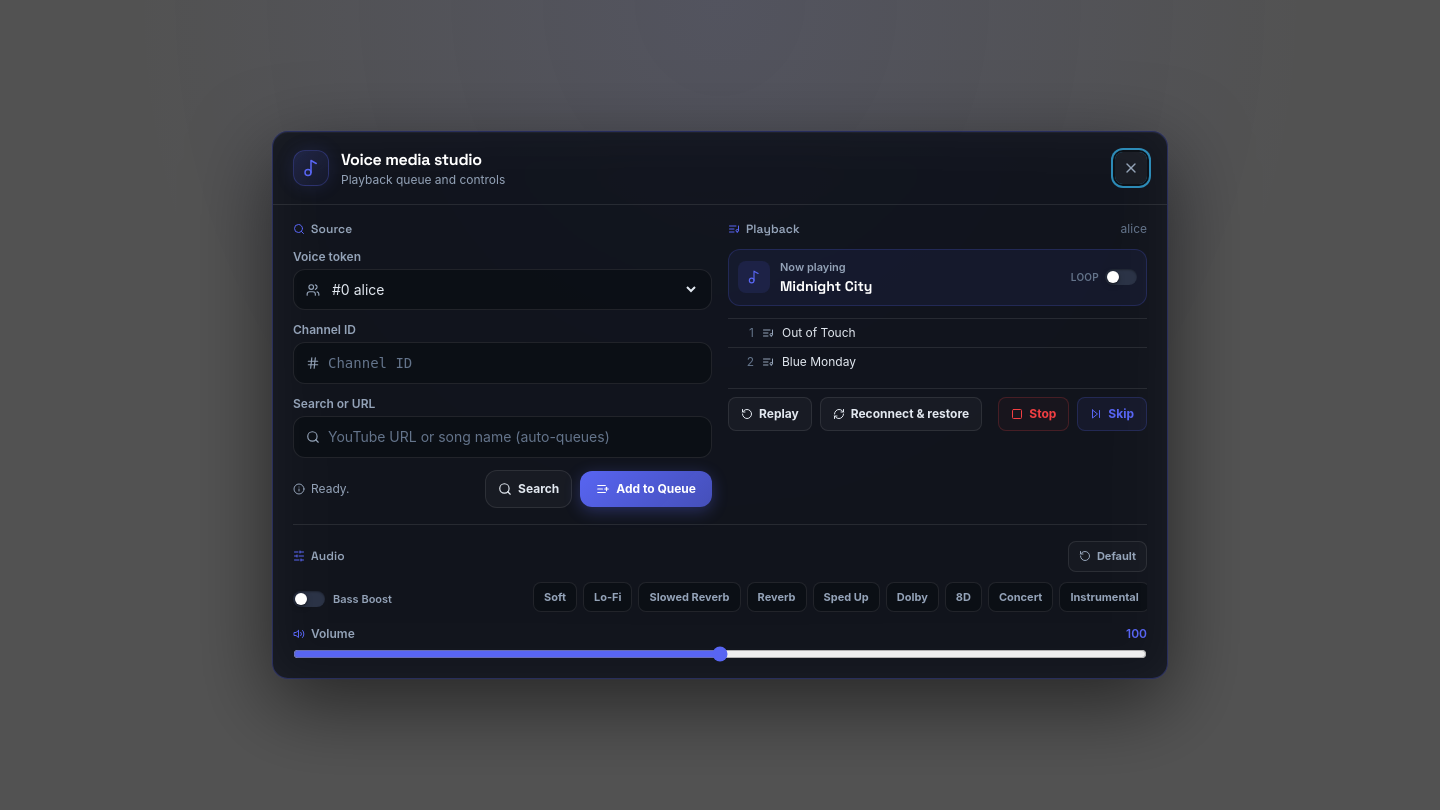
Test case: VoiceMediaModal › explains that the bot is offline instead of faking a queue
This screenshot has width=1440, height=810.
Expected: the text "Midnight City" is shown, left=780, top=276, right=872, bottom=294
Step 1. Type "222222222222222222" into the field labelled "Channel ID" → (514, 363), box left=328, top=343, right=699, bottom=383
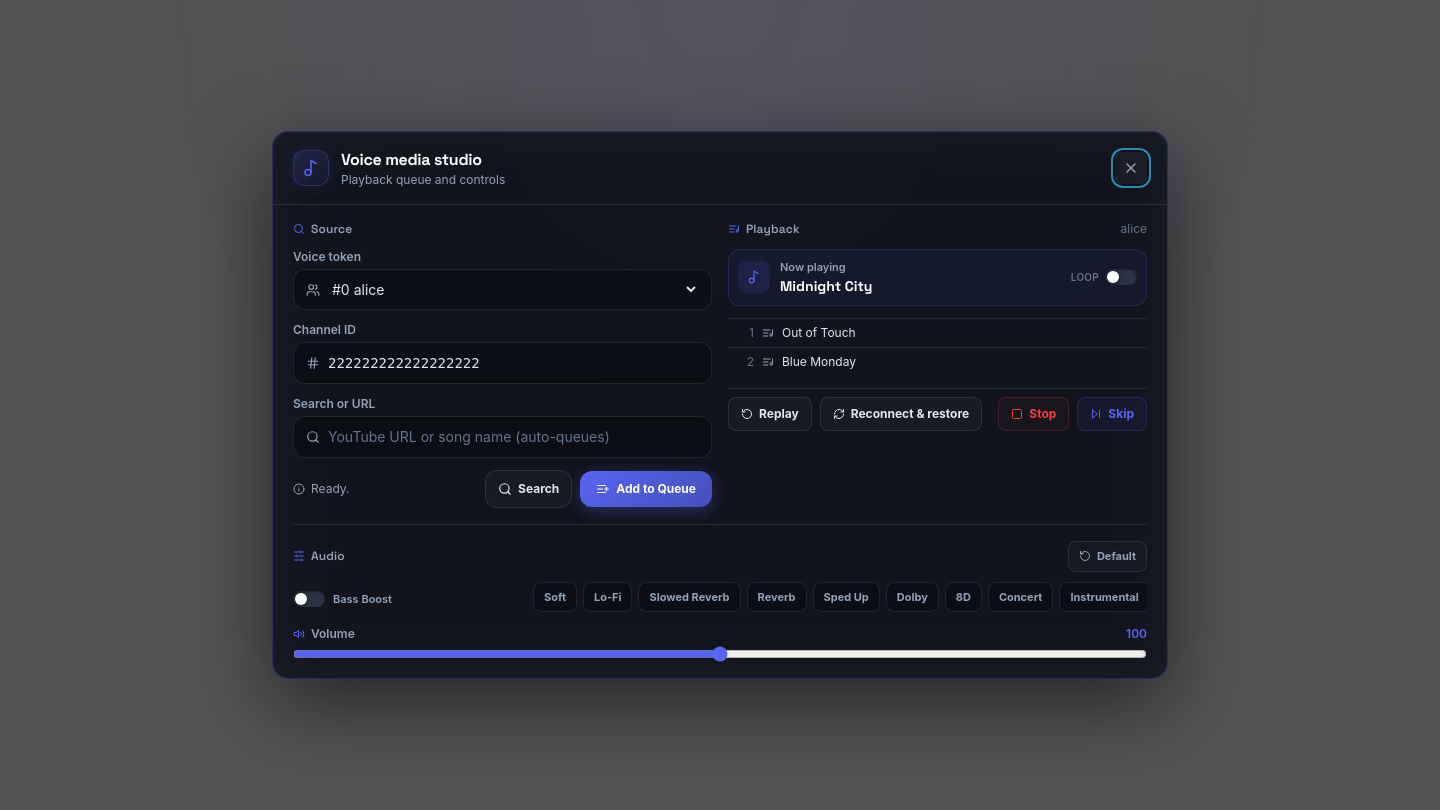
Step 2. Type "https://youtu.be/dQw4w9WgXcQ" into the field with placeholder "YouTube URL or song name (auto-queues)" → (514, 437), box left=328, top=417, right=699, bottom=457
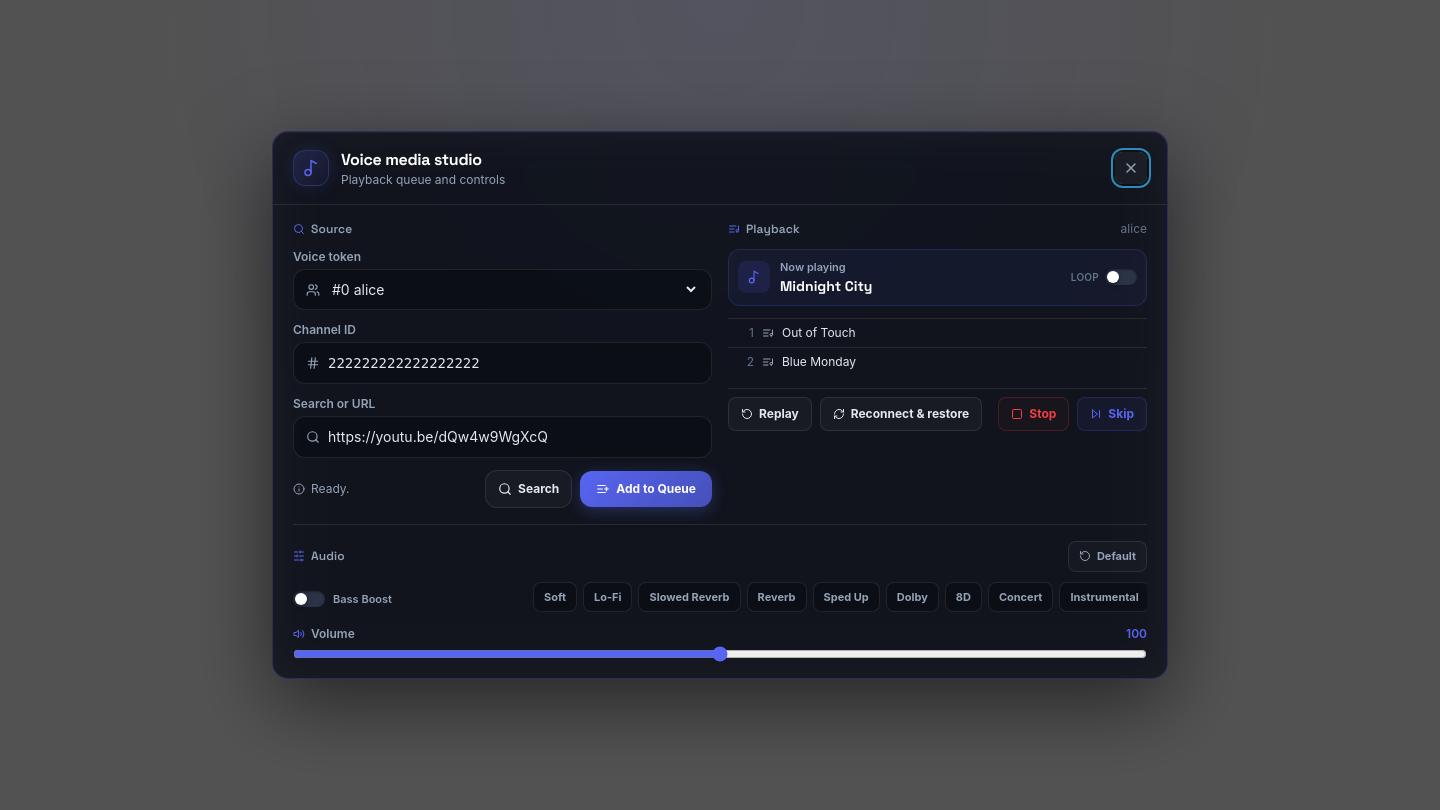
Step 3. Click the button "Add to Queue" → (646, 489), box left=580, top=471, right=712, bottom=507
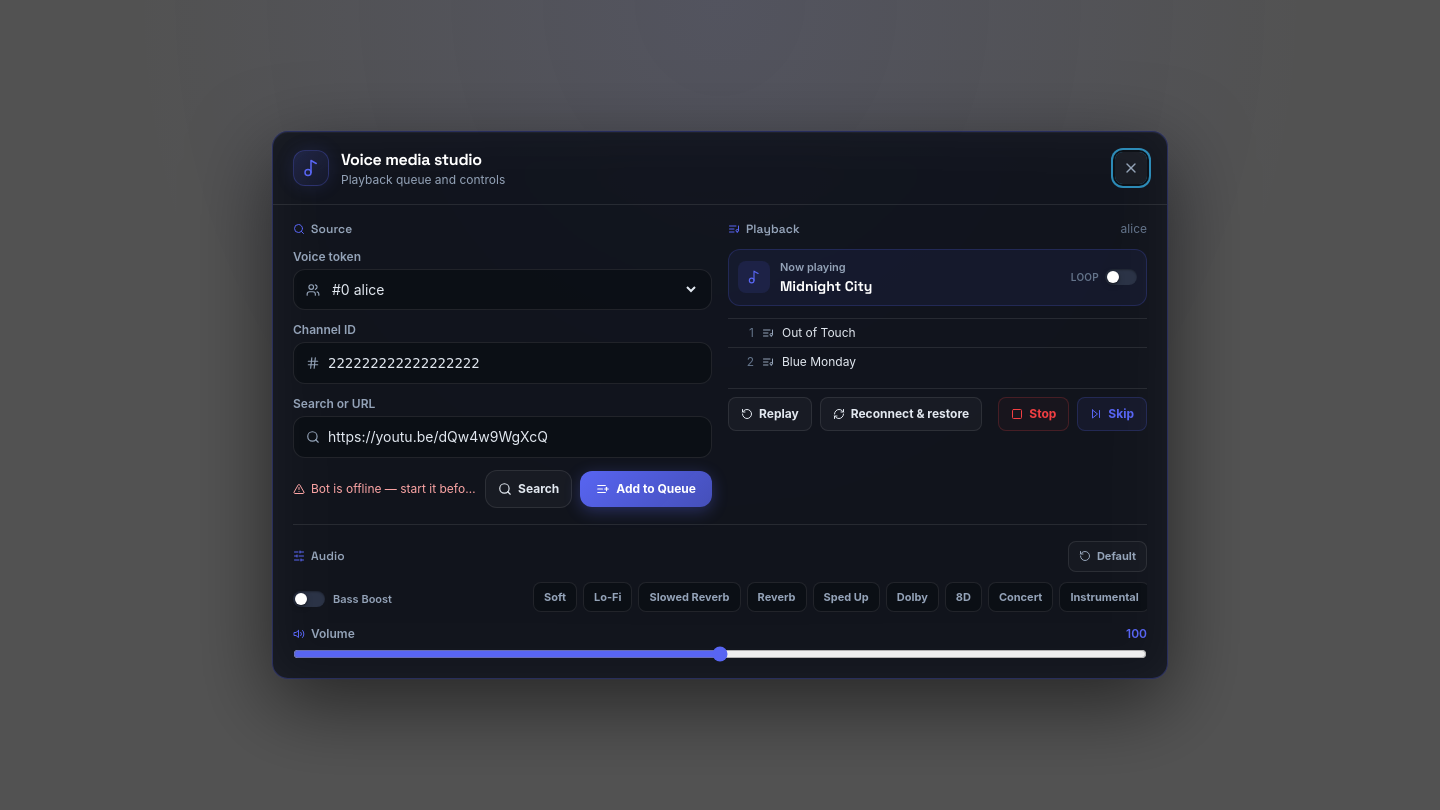
Expected: the text "Bot is offline — start it before queueing playback." is shown, left=311, top=481, right=477, bottom=497
